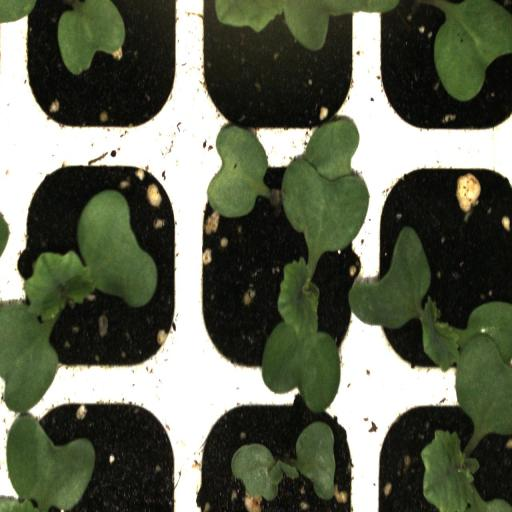seedling: (13, 142, 181, 389), (373, 140, 512, 384), (374, 388, 511, 512)
twoseedling: (185, 142, 370, 389)
